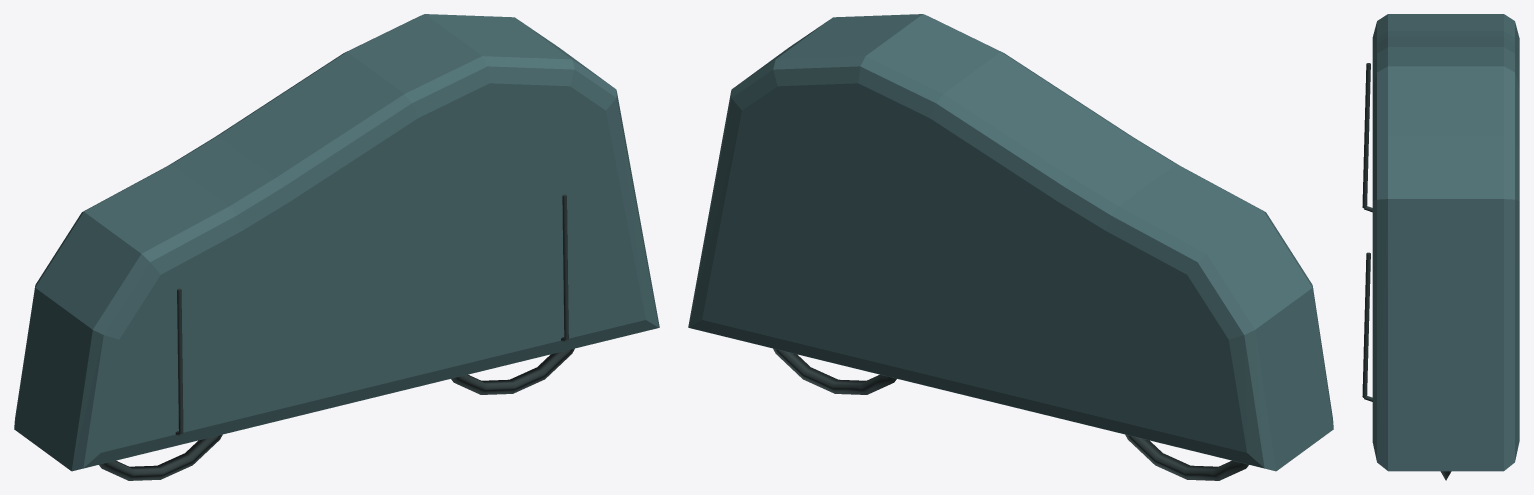
File: legacy-171.glb
The picture shows the model from 3 angles, left to right: view 1: azimuth 30°, elevation 25°; view 2: azimuth 150°, elevation 25°; view 3: azimuth 270°, elevation 25°; orthographic projection.
Parts seen in each view (by area): view 1: part-3, part-2, part-1, part-4, part-6; view 2: part-3, part-2, part-1; view 3: part-3, part-4, part-6.
Part boxes in pixels (left/top/right/bottom): part-3: left=14, top=14, right=659, bottom=471; part-2: left=451, top=348, right=574, bottom=394; part-1: left=99, top=434, right=222, bottom=480; part-4: left=177, top=288, right=183, bottom=434; part-6: left=562, top=194, right=568, bottom=340; part-3: left=688, top=14, right=1333, bottom=471; part-2: left=773, top=348, right=896, bottom=394; part-1: left=1125, top=434, right=1248, bottom=480; part-3: left=1372, top=14, right=1519, bottom=471; part-4: left=1362, top=63, right=1370, bottom=208; part-6: left=1362, top=252, right=1370, bottom=397.
Bounding box in the file's own units: 1.77 × 1.07 × 0.406.
